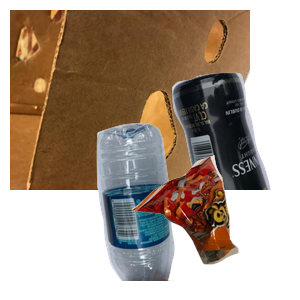cardboard: (10, 10, 250, 190)
glass: (106, 70, 300, 250)
plastic: (94, 120, 267, 300)
trash: (130, 153, 300, 300)
